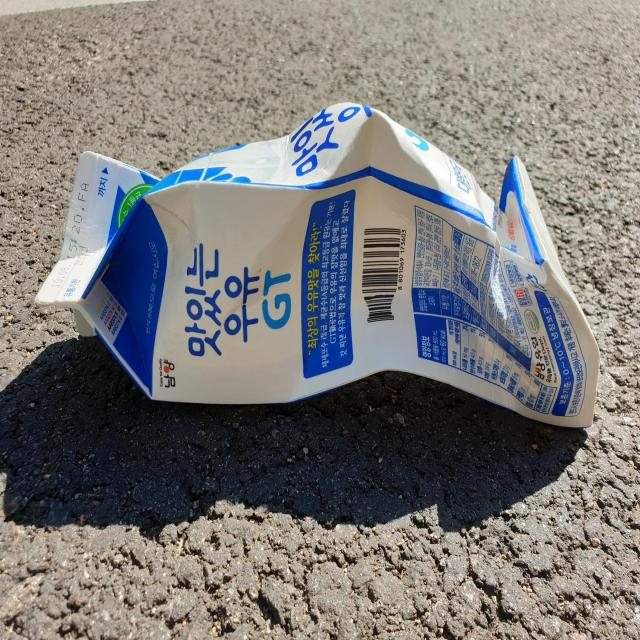paperpack: (36, 102, 600, 427)
